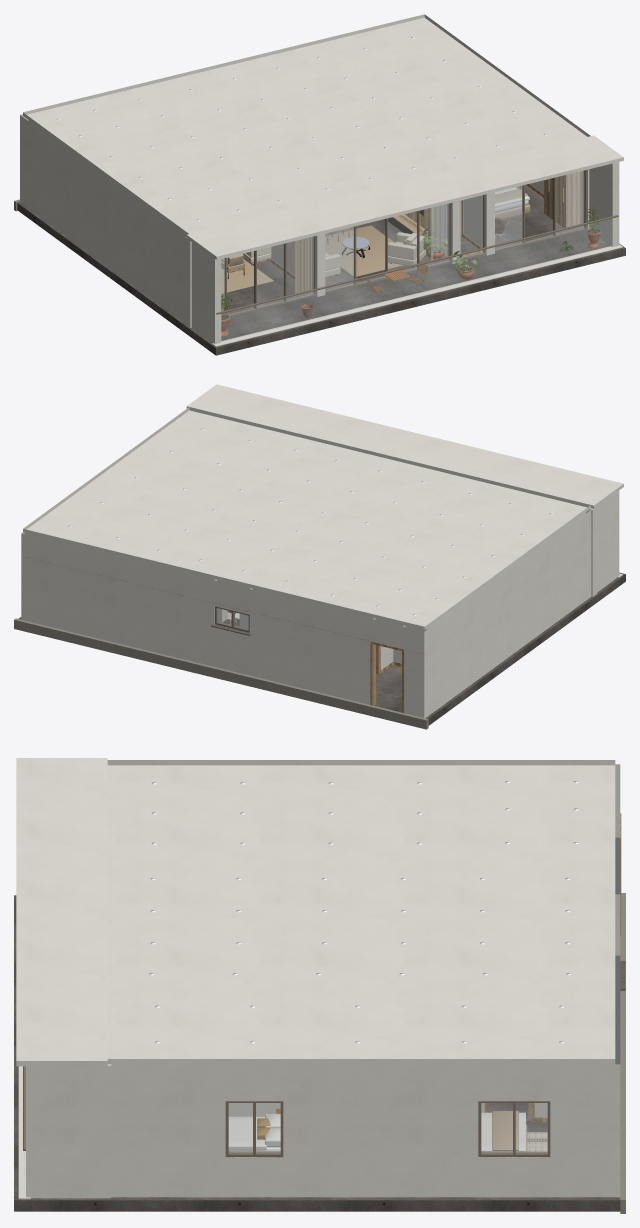
Rendered from syrian-apartment.glb.
3 renders of one model, top to bottom at view 1: azimuth 30°, elevation 25°; view 2: azimuth 150°, elevation 25°; view 3: azimuth 270°, elevation 25°, orthographic. The views are drawn at different scales.
Parts seen in each view (by area): view 1: ceiling-ceiling-plaster, shell-wall-plaster, apartment-structural-slab, ceiling-gypsum-ceiling, balcony-glass-balustrade, upper-wall-plaster, trim-bronze-aluminium.001, shell-wall-plaster.001, rug-family, joinery-oak-joinery, balcony-slider-glass.005, balcony-slider-glass.007 (+15 smaller); view 2: ceiling-ceiling-plaster, shell-wall-plaster, upper-wall-plaster, ceiling-gypsum-ceiling, shell-facade-render, apartment-structural-slab, trim-oak-joinery-z0x0; view 3: ceiling-ceiling-plaster, shell-wall-plaster, ceiling-gypsum-ceiling, upper-wall-plaster, apartment-structural-slab, window-glass.001, window-glass.002, trim-bronze-aluminium, upholstered-bed.001, upholstered-bed, shell-facade-render, shell-wall-plaster.001 (+2 smaller).
Part boxes in pixels (x1,y1,x2,y2): ceiling-ceiling-plaster: (23,14,623,259); shell-wall-plaster: (20,138,622,346); apartment-structural-slab: (17,184,625,355); ceiling-gypsum-ceiling: (77,20,581,233); balcony-glass-balustrade: (218,217,616,342); upper-wall-plaster: (20,114,619,280); trim-bronze-aluminium.001: (224,170,586,316); shell-wall-plaster.001: (185,169,589,327); rug-family: (325,225,403,276); joinery-oak-joinery: (544,171,581,227); balcony-slider-glass.005: (325,227,354,290); balcony-slider-glass.007: (420,203,449,265); ceiling-ceiling-plaster: (23,384,623,629); shell-wall-plaster: (21,512,622,718); upper-wall-plaster: (21,410,619,654); ceiling-gypsum-ceiling: (32,412,585,592); shell-facade-render: (14,618,428,729); apartment-structural-slab: (18,572,625,725); trim-oak-joinery-z0x0: (370,641,404,713); ceiling-ceiling-plaster: (16,758,615,1066); shell-wall-plaster: (18,1066,620,1199); ceiling-gypsum-ceiling: (111,768,610,1058); upper-wall-plaster: (26,764,620,1099); apartment-structural-slab: (14,895,620,1211); window-glass.001: (481,1103,547,1152); window-glass.002: (229,1103,280,1152); trim-bronze-aluminium: (23,1066,550,1157); upholstered-bed.001: (228,1113,280,1151); upholstered-bed: (481,1111,527,1151); shell-facade-render: (620,893,625,1213); shell-wall-plaster.001: (97,1100,111,1198).
Bounding box in the file's own units: 15.1 × 3.46 × 12.72.
Materials: 62 (40 with a texture image).
